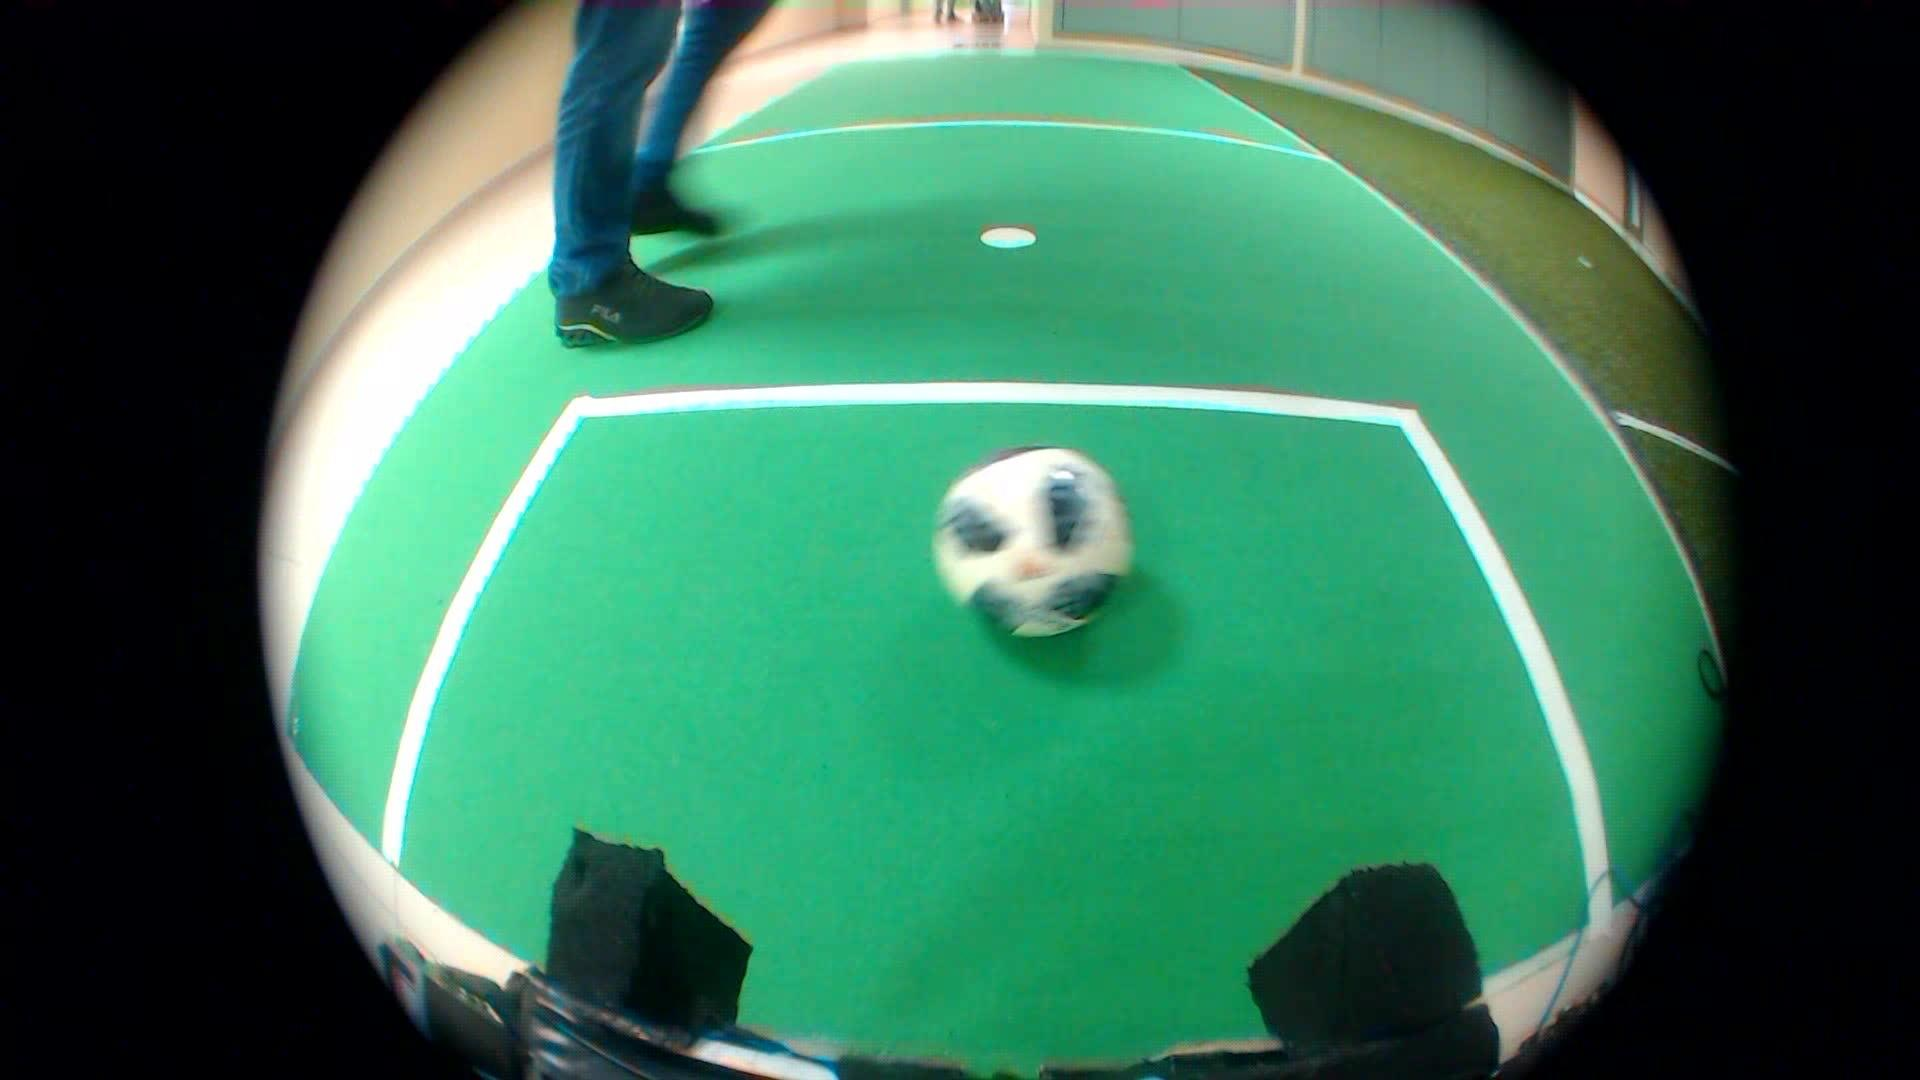ball: (901, 419, 1143, 651)
